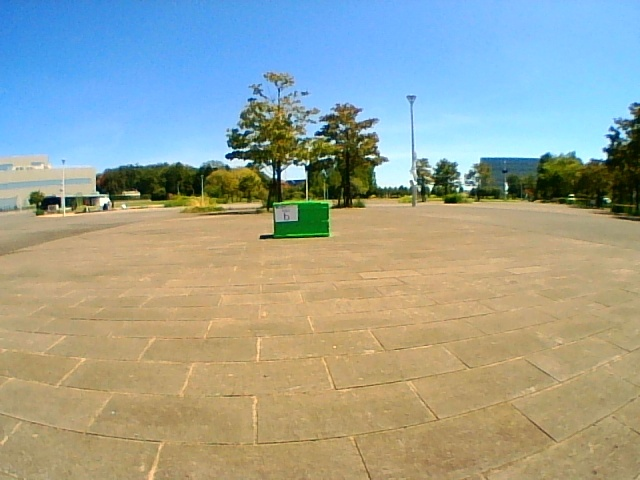green_box: (273, 201, 329, 236)
tag_b: (275, 206, 297, 221)
